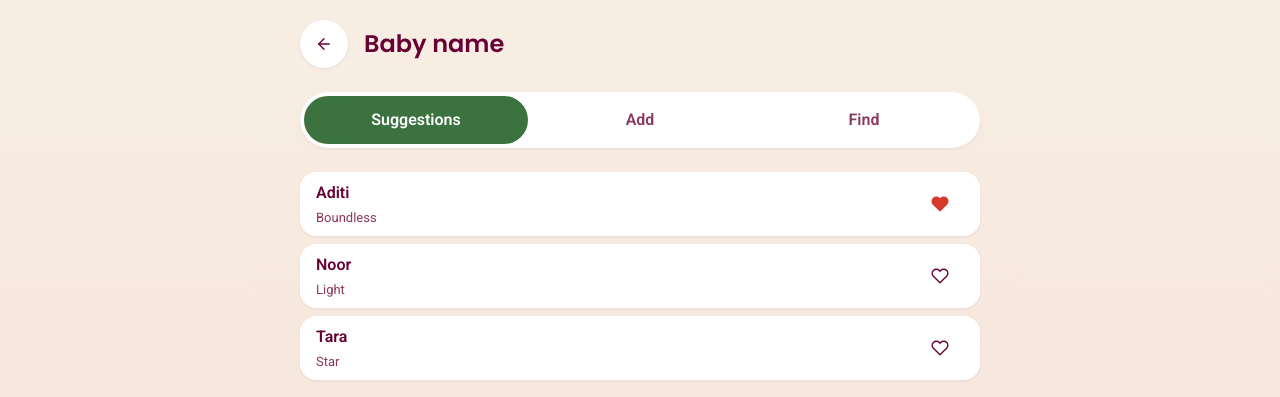
Test: BabyNameScreen › opens a detail view with the localized meaning and favorite control
Click the button "Aditi Boundless".
click(333, 192)  # box [316,180,900,228]
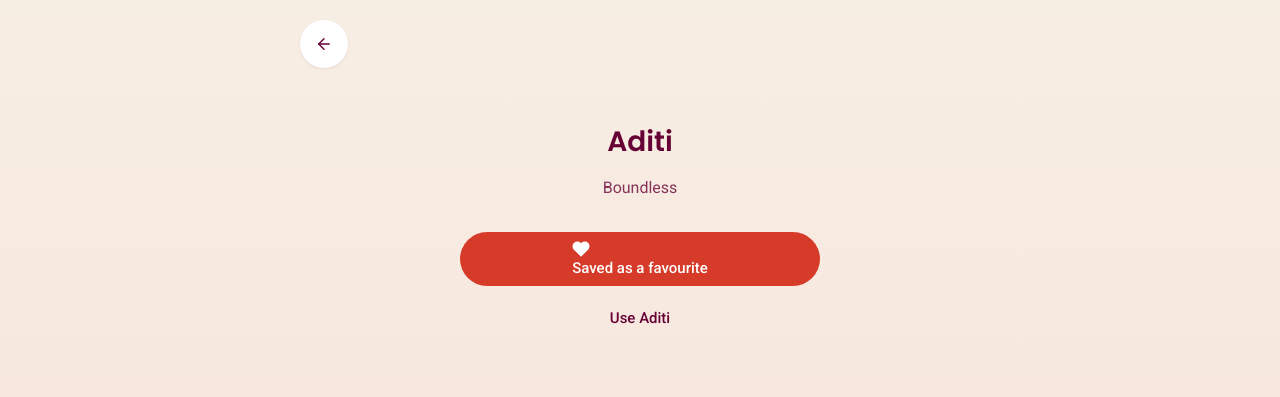
Check: the text "Boundless" is shown, box [603,176,677,200]
Check: the heading "Aditi" is shown, box [607,124,673,160]
